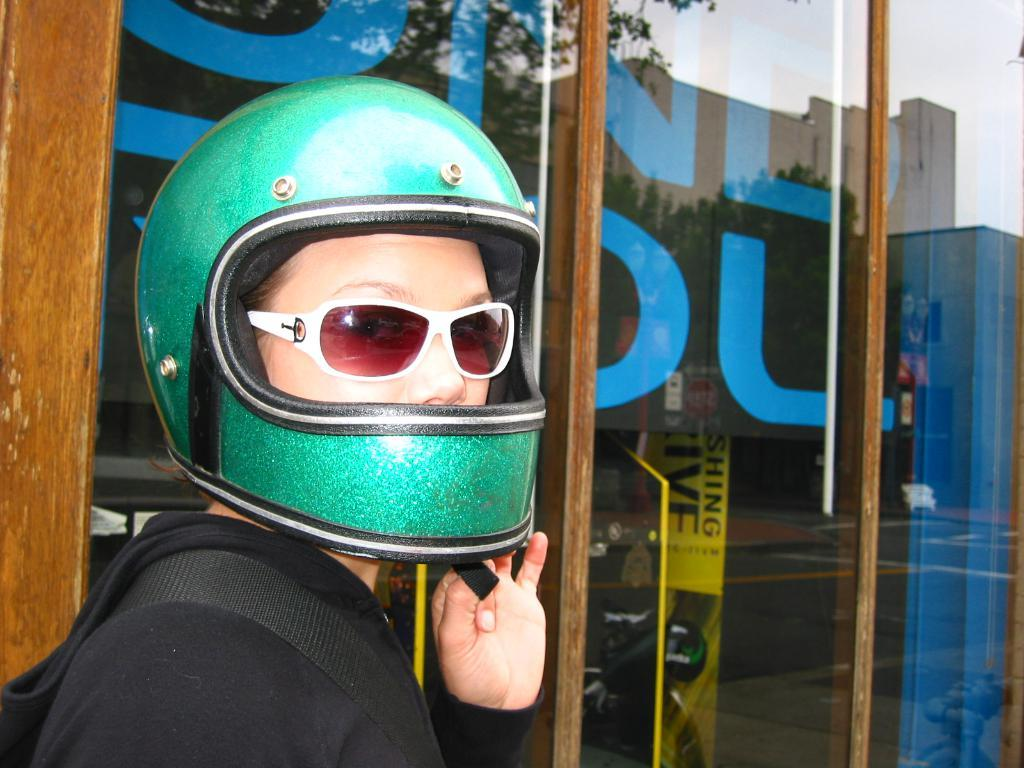helmet: (133, 74, 546, 565)
